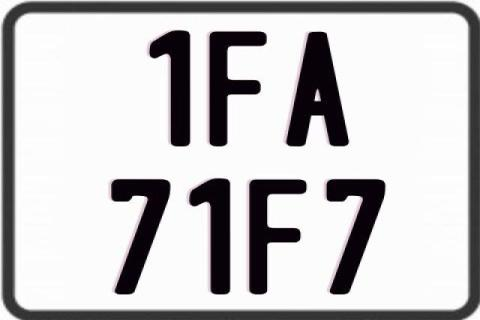0: (326, 177, 389, 296), (108, 179, 168, 295), (188, 178, 232, 298), (147, 30, 189, 150)
A: (286, 31, 350, 148)
F: (248, 177, 312, 295), (208, 31, 268, 151)
